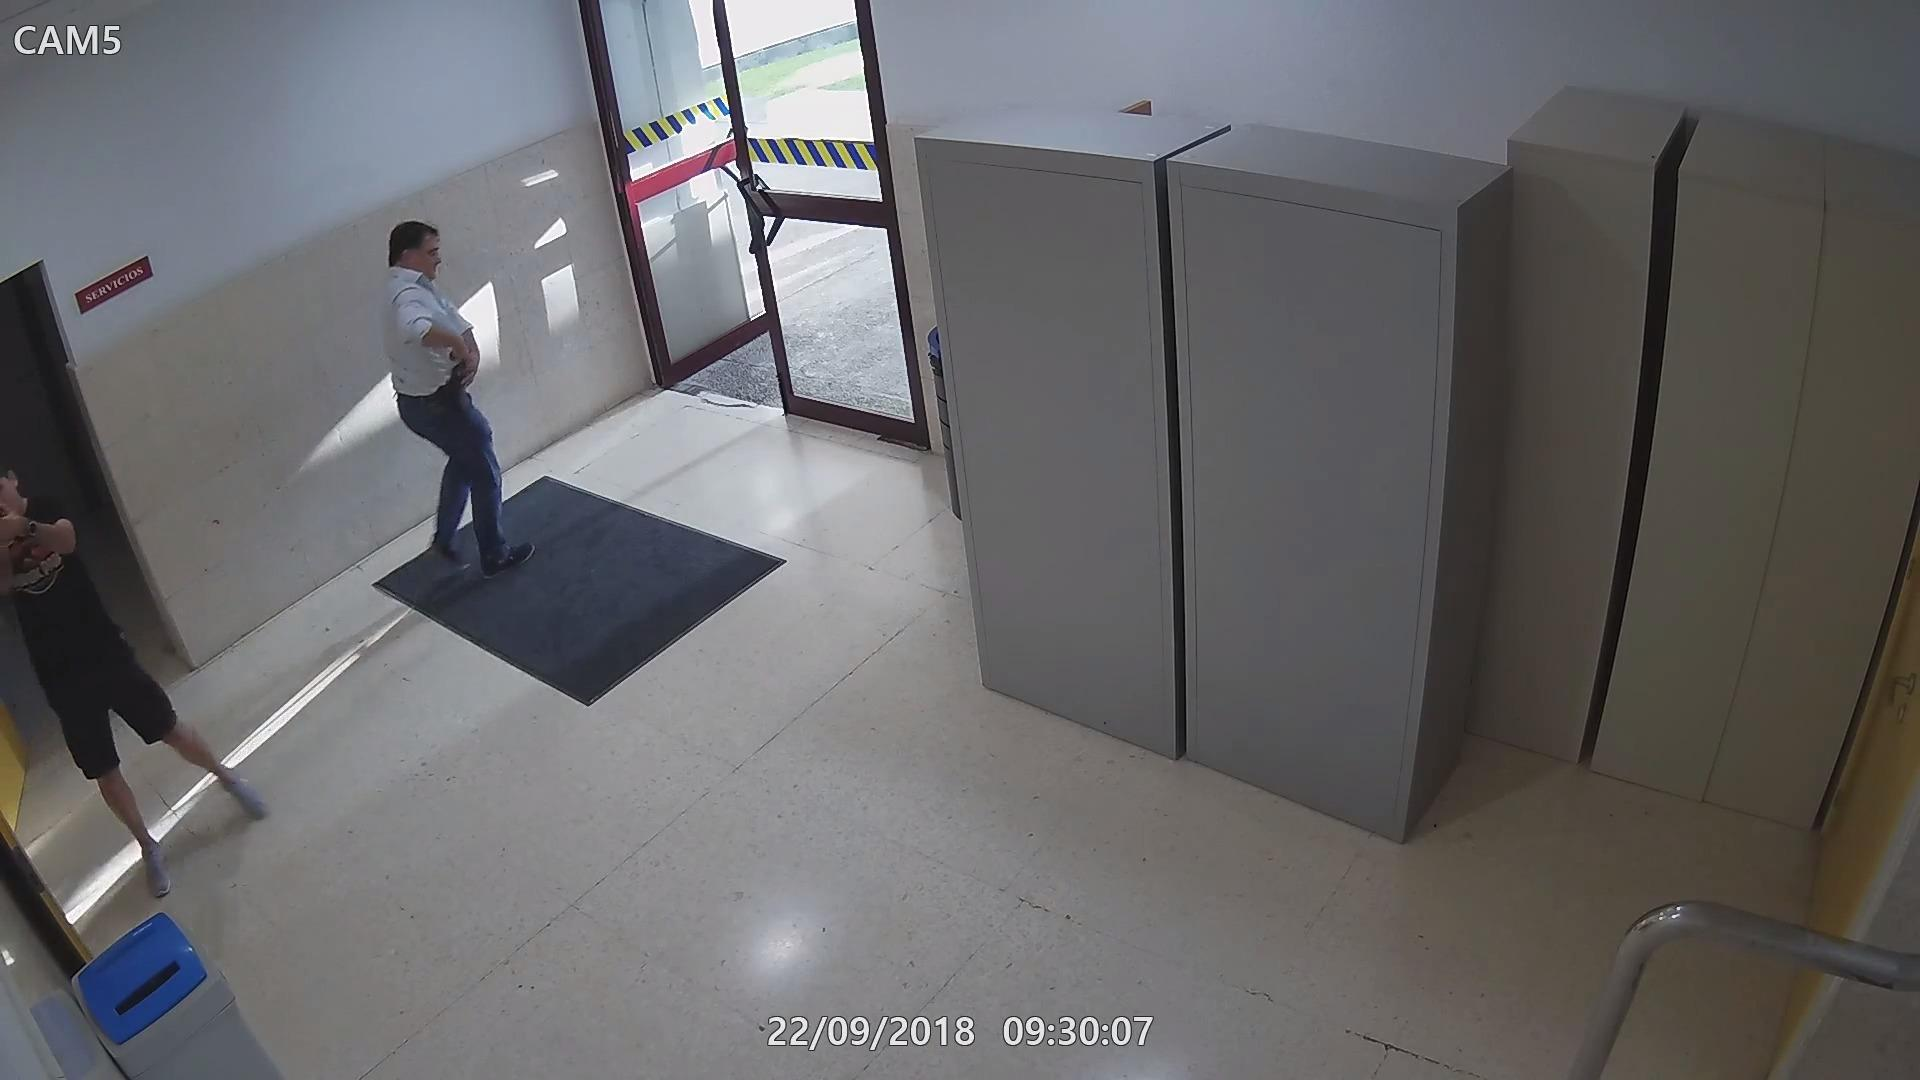Handgun: (450, 349, 477, 392)
